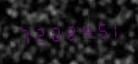five: (92, 18, 106, 41)
four: (77, 19, 91, 42)
one: (107, 17, 121, 40)
seven: (17, 23, 31, 46)
two: (32, 22, 46, 45), (62, 20, 76, 43)
zero: (47, 21, 61, 44)
